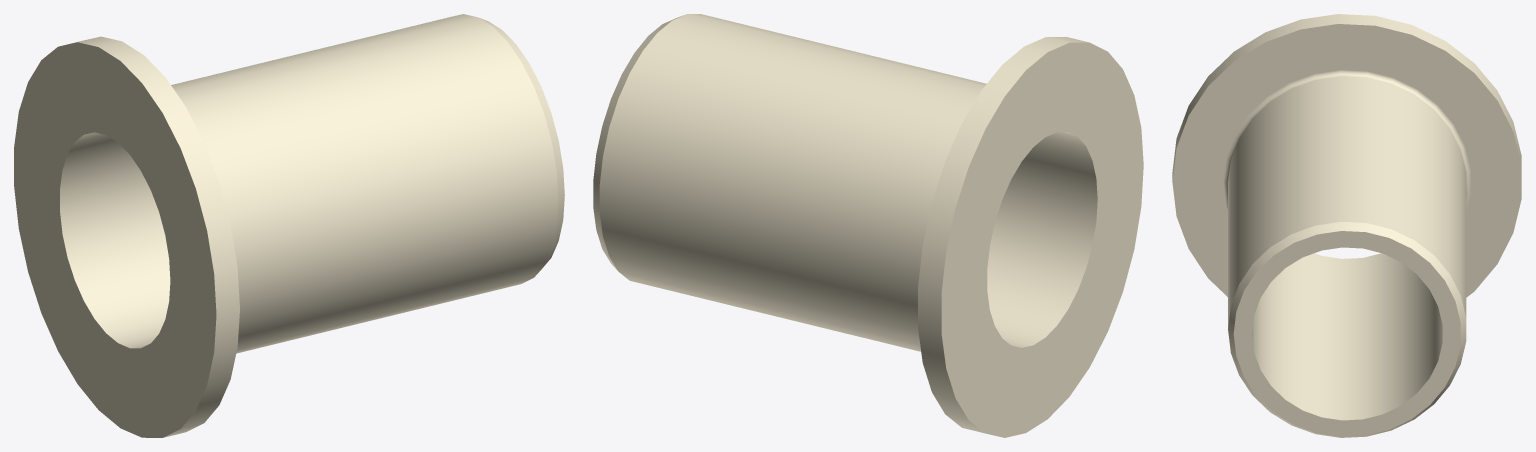
The model's file is _2706T66_Dry_Running_Flanged_Sleeve_Bearing.gltf.
3 renders of one model, left to right at view 1: azimuth 30°, elevation 25°; view 2: azimuth 150°, elevation 25°; view 3: azimuth 270°, elevation 25°, orthographic. The views are drawn at different scales.
Parts seen in each view (by area): view 1: mesh17979, mesh17984, mesh17985, mesh17983, mesh17980; view 2: mesh17979, mesh17984, mesh17985, mesh17983, mesh17980; view 3: mesh17979, mesh17982, mesh17985, mesh17986, mesh17980, mesh17983, mesh17981.
Part boxes in pixels (left/top/right/bottom): mesh17979: left=171, top=14, right=558, bottom=353; mesh17984: left=14, top=42, right=216, bottom=437; mesh17985: left=60, top=132, right=170, bottom=348; mesh17983: left=67, top=36, right=239, bottom=437; mesh17980: left=479, top=18, right=564, bottom=276; mesh17979: left=599, top=14, right=986, bottom=351; mesh17984: left=941, top=42, right=1143, bottom=437; mesh17985: left=987, top=132, right=1097, bottom=347; mesh17983: left=918, top=37, right=1089, bottom=433; mesh17980: left=593, top=15, right=683, bottom=270; mesh17979: left=1228, top=76, right=1466, bottom=328; mesh17982: left=1172, top=24, right=1521, bottom=297; mesh17985: left=1252, top=253, right=1442, bottom=420; mesh17986: left=1233, top=231, right=1460, bottom=436; mesh17980: left=1228, top=221, right=1466, bottom=437; mesh17983: left=1172, top=14, right=1521, bottom=181; mesh17981: left=1223, top=70, right=1470, bottom=212.
Size of the model in its own units: 0.0191 by 0.0174 by 0.0174.
